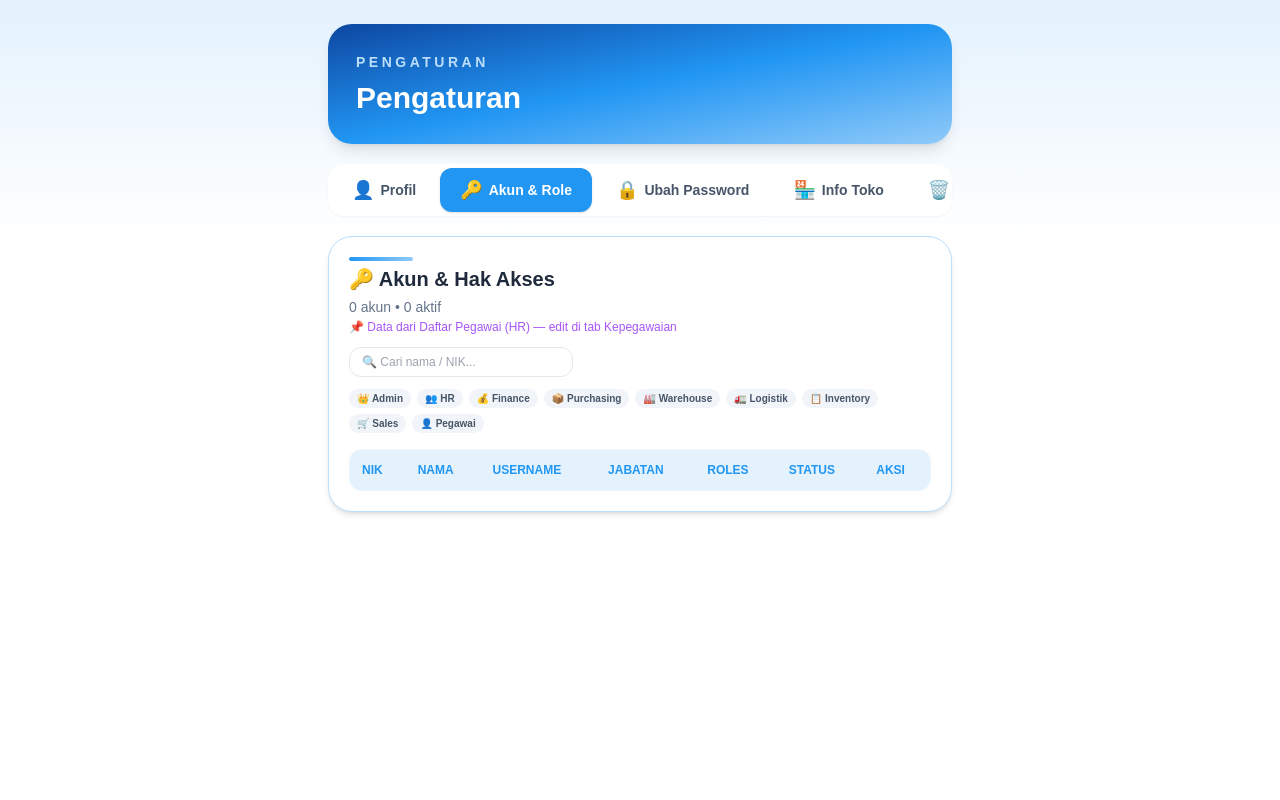
Test: PengaturanPage › switches to Info Toko tab
Step 1. Click the tab "🏪 Info Toko" → (839, 190), box [773, 168, 904, 212]
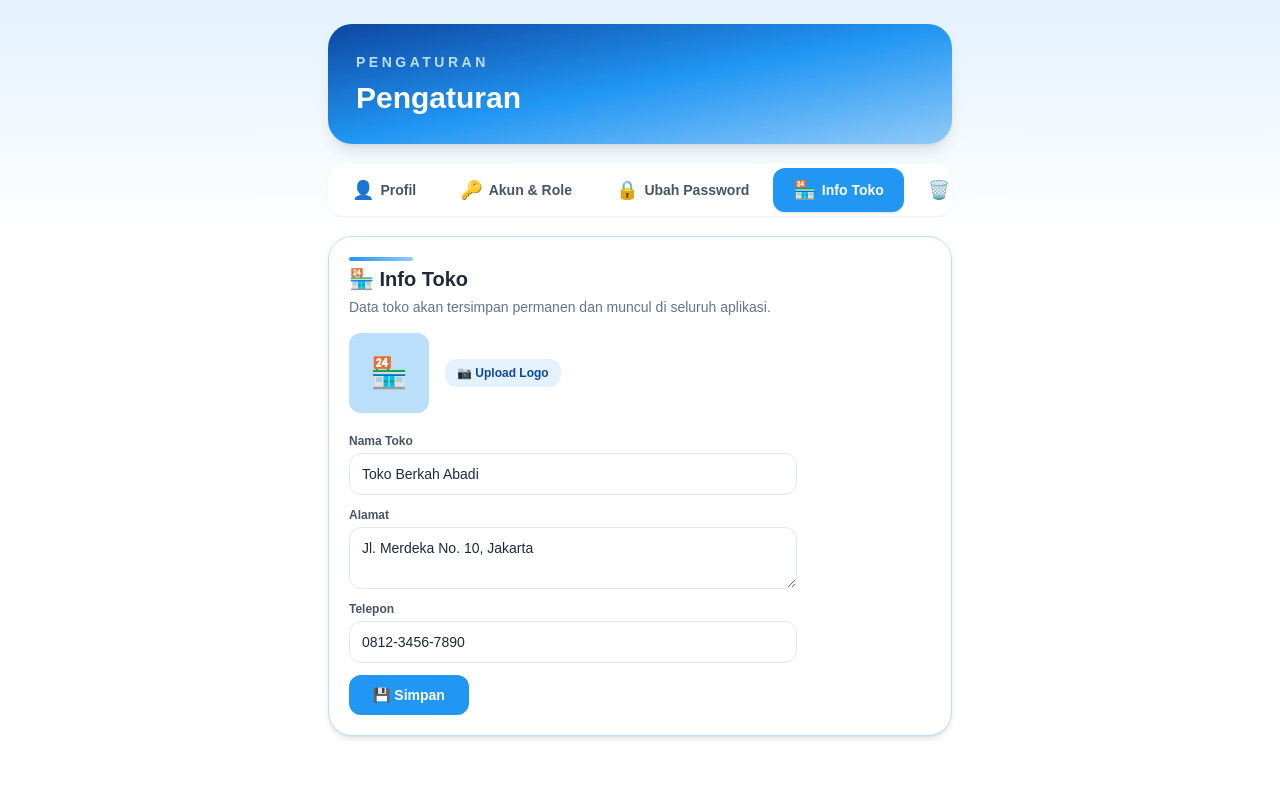
Expected: the field showing "Toko Berkah Abadi" is shown, [349, 453, 797, 495]
